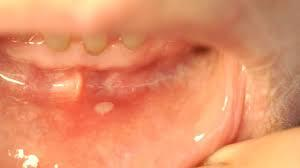Ulcer: (86, 93, 123, 119)
